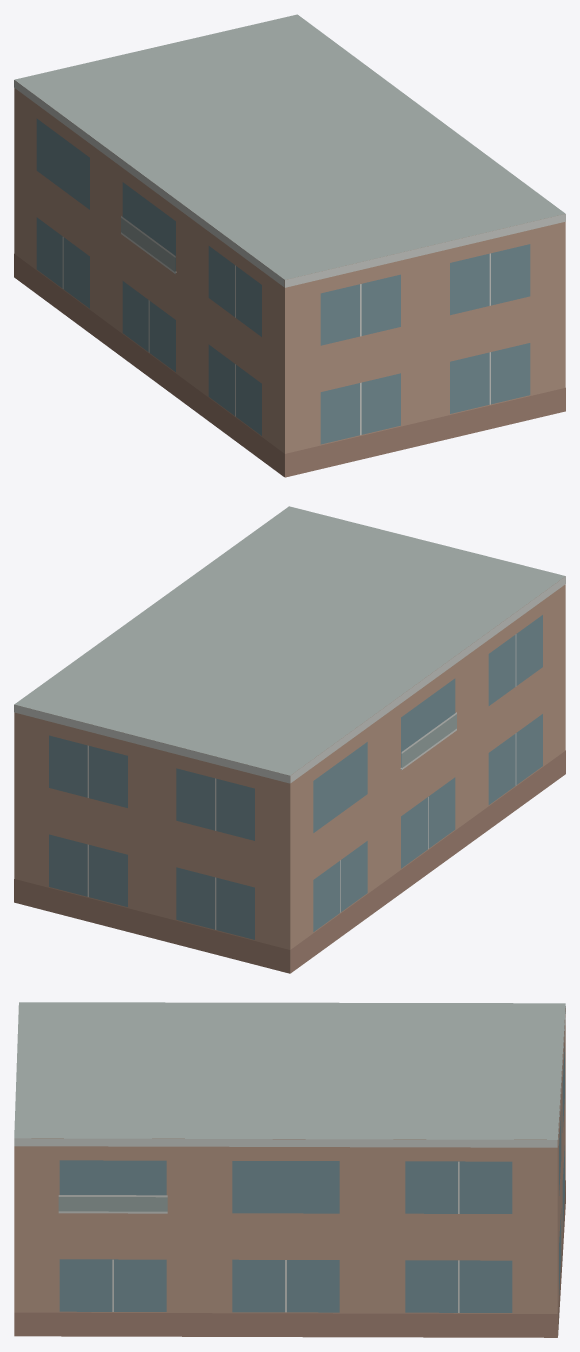
File: survey-upis-32878917.glb
3 views of the same model, one above another, from view 1: azimuth 30°, elevation 25°; view 2: azimuth 150°, elevation 25°; view 3: azimuth 270°, elevation 25° (orthographic).
Parts seen in each view (by area): view 1: survey-upis-32878917.tmp; view 2: survey-upis-32878917.tmp; view 3: survey-upis-32878917.tmp.
Part boxes in pixels (x1=…): survey-upis-32878917.tmp: x1=14, y1=14, x2=565, y2=477; survey-upis-32878917.tmp: x1=14, y1=506, x2=565, y2=973; survey-upis-32878917.tmp: x1=14, y1=1002, x2=565, y2=1337.
Size of the model in its own units: 9.12 by 6.1 by 15.42.
